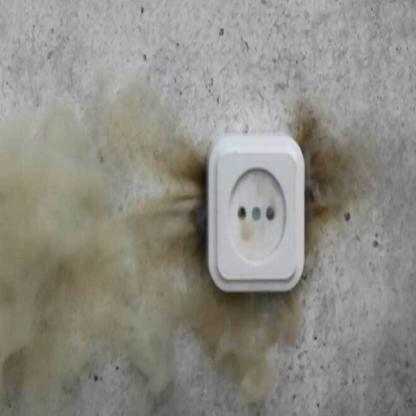smoke: (0, 107, 302, 416)
